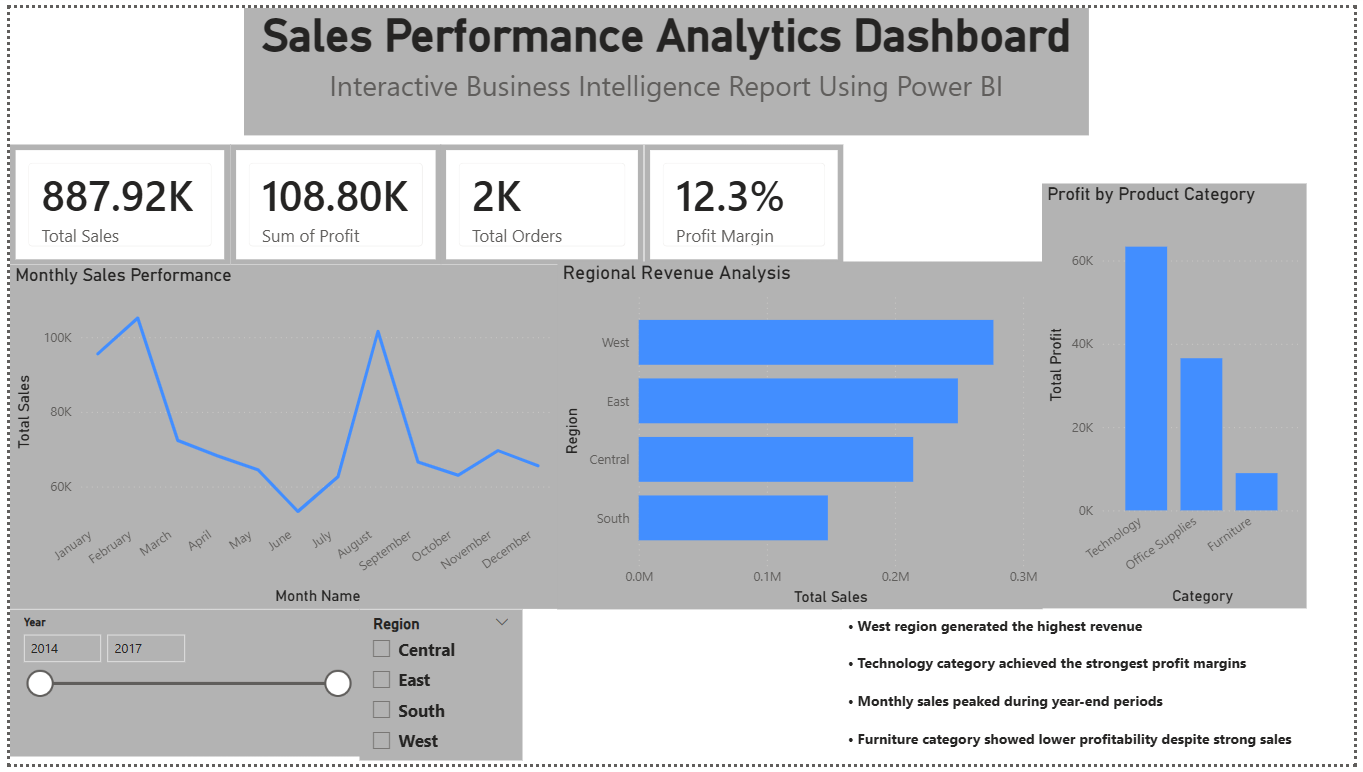

The page's visual inventory and layout, read from the dashboard file:
{"tool":"powerbi","page":{"name":"Page 1","canvas":[1280,720],"ordinal":0},"visuals":[{"type":"cardVisual","fields":{"Data":["Sample - Superstore.Total Sales"]},"box":[0,130.7,209.9,114.1],"z":0},{"type":"cardVisual","fields":{"Data":["Sum(Sample - Superstore.Profit)"]},"box":[209.9,130.7,200.7,114.1],"z":1000},{"type":"cardVisual","fields":{"Data":["Sample - Superstore.Total Orders"]},"box":[410.5,130.7,193.3,114.1],"z":2000},{"type":"cardVisual","fields":{"Data":["Sample - Superstore.Profit Margin"]},"box":[603.8,130.7,189.6,114.1],"z":3000},{"type":"lineChart","title":"Monthly Sales Performance","fields":{"Category":["Sample - Superstore.Month Name"],"Y":["Sample - Superstore.Total Sales"]},"box":[0,244.8,522.8,327.7],"z":4000},{"type":"clusteredBarChart","title":"Regional Revenue Analysis","fields":{"Category":["Sample - Superstore.Region"],"Y":["Sample - Superstore.Total Sales"]},"box":[521,241.2,462.1,331.4],"z":5000},{"type":"clusteredColumnChart","title":"Profit by Product Category","fields":{"Category":["Sample - Superstore.Category"],"Y":["Sample - Superstore.Total Profit"]},"box":[983,167.5,252.2,405],"z":6000},{"type":"slicer","fields":{"Values":["Sample - Superstore.Region"]},"box":[333.2,572.5,154.6,143.6],"z":7000},{"type":"slicer","fields":{"Values":["Sample - Superstore.Year"]},"box":[0,572.5,333.2,139.9],"z":8000},{"type":"textbox","title":"Sales Performance Analytics Dashboard","box":[222.7,0,804.5,121.5],"z":8001},{"type":"textbox","box":[793.4,572.5,441.8,139.9],"z":8002}]}

Visuals, with their boxes in screenshot pixels (x1, y1, x2, y2), scaled from the page's 1280x720 canvas onto the 1363x772 screenshot:
cardVisual - Sample - Superstore.Total Sales: (0,140,224,262)
cardVisual - Sum(Sample - Superstore.Profit): (224,140,437,262)
cardVisual - Sample - Superstore.Total Orders: (437,140,643,262)
cardVisual - Sample - Superstore.Profit Margin: (643,140,845,262)
"Monthly Sales Performance" lineChart: (0,262,557,614)
"Regional Revenue Analysis" clusteredBarChart: (555,259,1047,614)
"Profit by Product Category" clusteredColumnChart: (1047,180,1315,614)
slicer - Sample - Superstore.Region: (355,614,519,768)
slicer - Sample - Superstore.Year: (0,614,355,764)
"Sales Performance Analytics Dashboard" textbox: (237,0,1094,130)
textbox: (845,614,1315,764)
